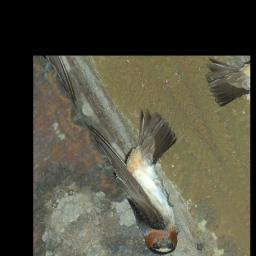Swallow: (76, 80, 223, 256)
